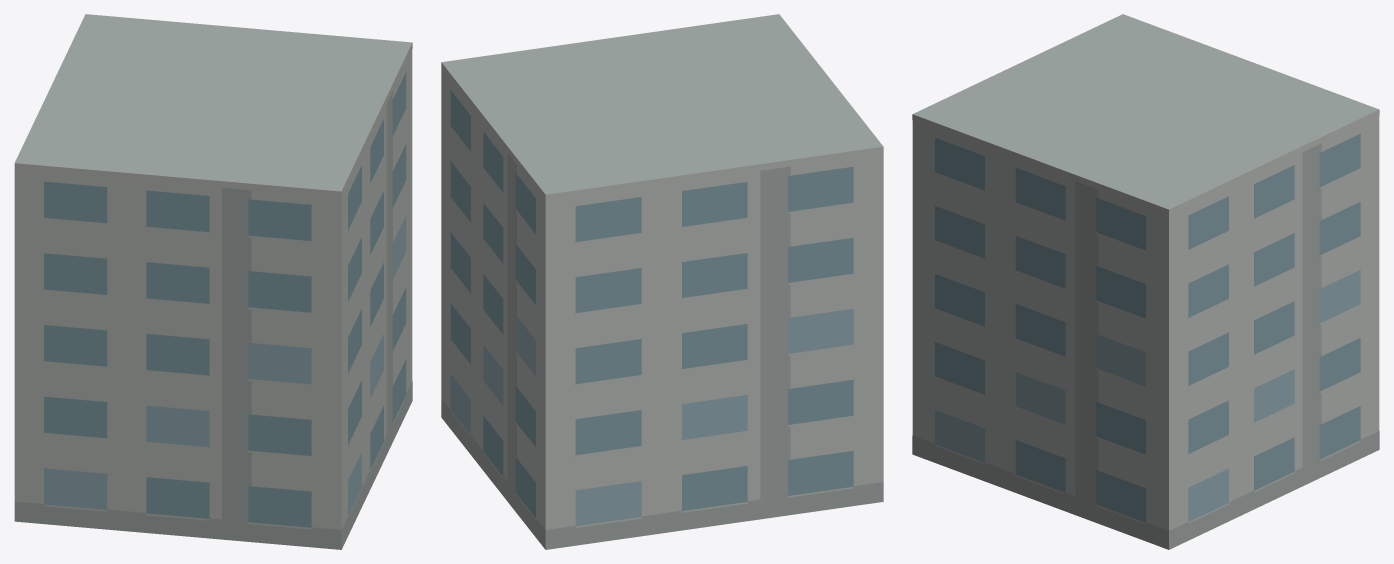
The model's file is survey-upis-32745614.glb.
3 renders of one model, left to right at view 1: azimuth 30°, elevation 25°; view 2: azimuth 150°, elevation 25°; view 3: azimuth 270°, elevation 25°, orthographic. The views are drawn at different scales.
Parts seen in each view (by area): view 1: survey-upis-32745614.tmp; view 2: survey-upis-32745614.tmp; view 3: survey-upis-32745614.tmp.
Part boxes in pixels (x1,y1,x2,y2): survey-upis-32745614.tmp: [14, 14, 412, 549]; survey-upis-32745614.tmp: [441, 14, 883, 549]; survey-upis-32745614.tmp: [912, 14, 1379, 549].
Size of the model in its own units: 16.28 by 13.2 by 16.43.
